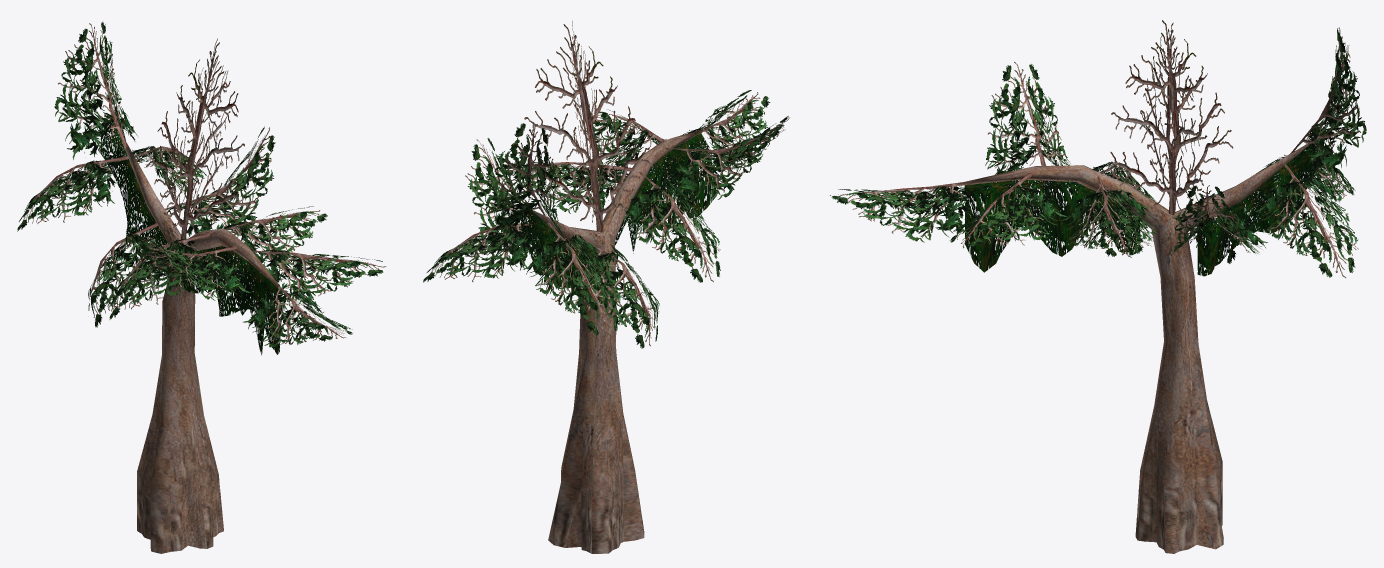
The model's file is Sharp_SwampCyprus02.gltf.
3 views of the same model, side by side, from view 1: azimuth 30°, elevation 25°; view 2: azimuth 150°, elevation 25°; view 3: azimuth 270°, elevation 25° (orthographic). The views are drawn at different scales.
Parts seen in each view (by area): view 1: Dfol, Trunk, Cfol, Afol, Bfol; view 2: Dfol, Trunk, Afol, Cfol, Bfol; view 3: Dfol, Trunk, Cfol, Afol, Bfol.
Part boxes in pixels (x1=…): Dfol: x1=17, y1=126, x2=386, y2=347; Trunk: x1=115, y1=123, x2=281, y2=553; Cfol: x1=98, y1=111, x2=279, y2=355; Afol: x1=146, y1=38, x2=244, y2=239; Bfol: x1=54, y1=21, x2=138, y2=159; Dfol: x1=423, y1=90, x2=789, y2=348; Trunk: x1=530, y1=129, x2=707, y2=553; Afol: x1=524, y1=21, x2=653, y2=232; Cfol: x1=520, y1=133, x2=716, y2=299; Bfol: x1=484, y1=123, x2=567, y2=242; Dfol: x1=830, y1=62, x2=1358, y2=277; Trunk: x1=956, y1=143, x2=1310, y2=553; Cfol: x1=964, y1=131, x2=1324, y2=276; Afol: x1=1108, y1=20, x2=1233, y2=214; Bfol: x1=1290, y1=27, x2=1366, y2=183.
Size of the model in its own units: 5.59 by 10.97 by 10.09.
2 materials, 2 textured.
